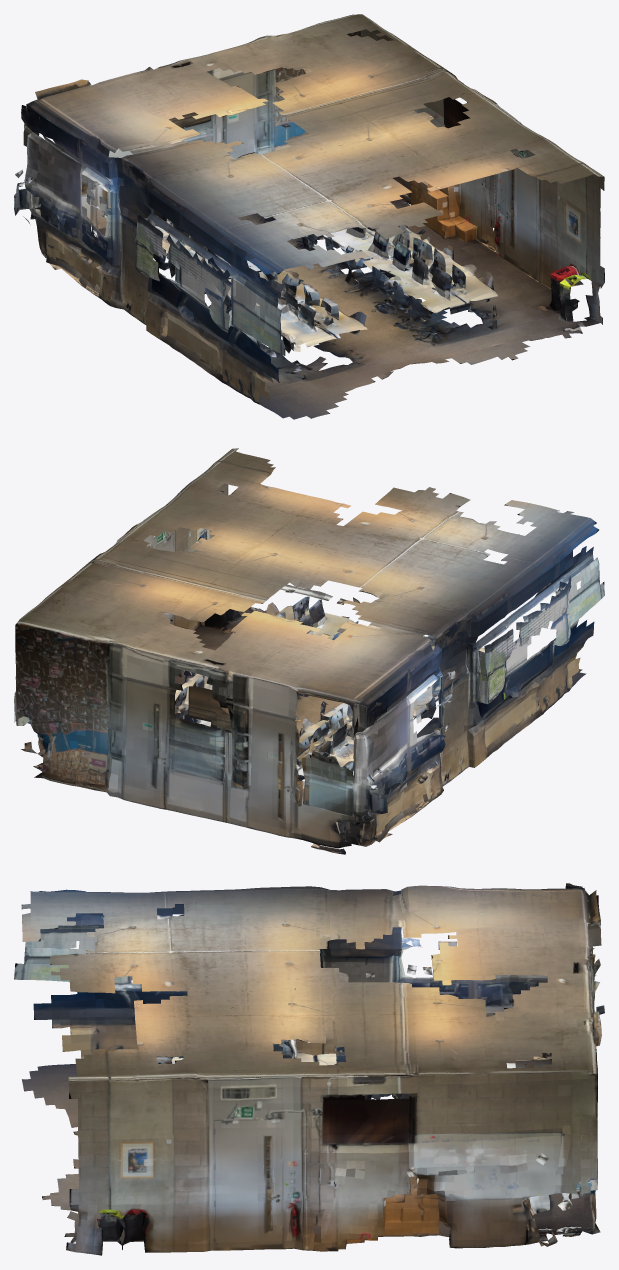
The picture shows the model from 3 angles, top to bottom: view 1: azimuth 30°, elevation 25°; view 2: azimuth 150°, elevation 25°; view 3: azimuth 270°, elevation 25°; orthographic projection. The views are drawn at different scales.
Visible parts, largest first — view 1: 2_m203_1-IM; view 2: 2_m203_1-IM; view 3: 2_m203_1-IM.
Boxes of the visible parts, x1,y1,x2,y2 form: 2_m203_1-IM: [14, 14, 604, 419]; 2_m203_1-IM: [14, 448, 604, 854]; 2_m203_1-IM: [14, 883, 604, 1255].
Bounding box in the file's own units: 815 × 333 × 971.
1 material, 1 textured.
